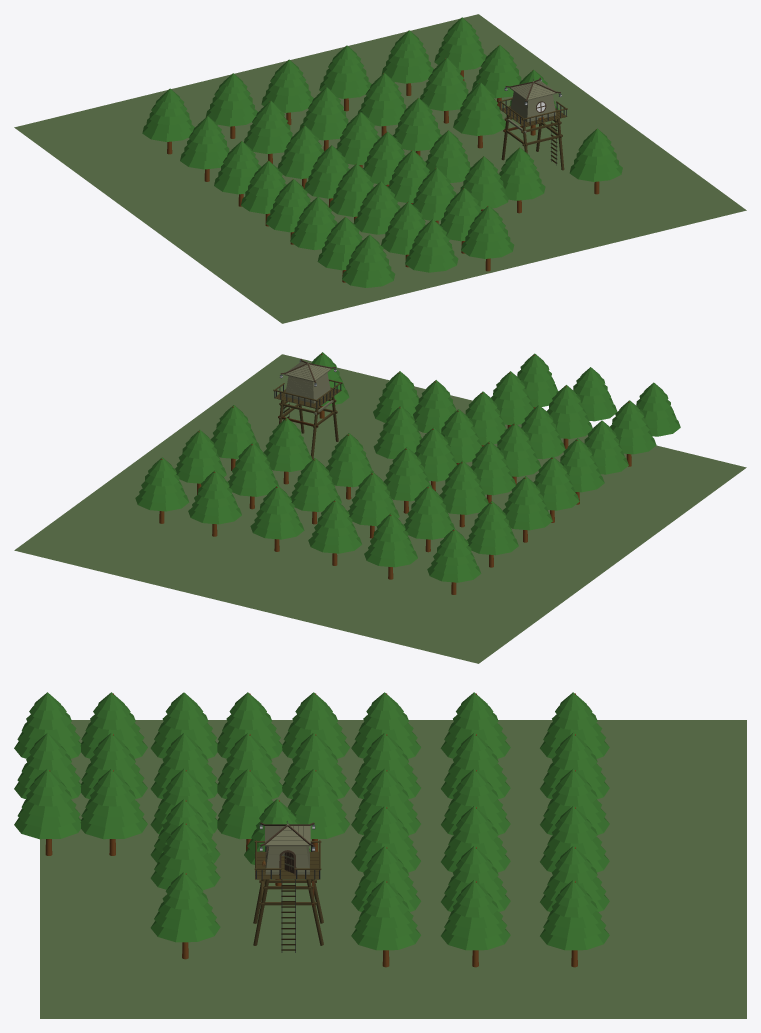
File: watchtower.fbx
3 renders of one model, top to bottom at view 1: azimuth 30°, elevation 25°; view 2: azimuth 150°, elevation 25°; view 3: azimuth 270°, elevation 25°, orthographic. The views are drawn at different scales.
Visible parts, largest first — view 1: grass, TREE.016, TREE.061, TREE.064, TREE.018, TREE.057, TREE.051, TREE.040, TREE.023, TREE.049, TREE.029, TREE.038 (+26 smaller); view 2: grass, TREE.051, TREE.015, TREE.023, TREE.013, TREE.040, TREE.029, TREE.049, TREE.038, TREE.021, TREE.047, TREE.036 (+27 smaller); view 3: grass, TREE.016, TREE.005, TREE.009, TREE.013, TREE.057, TREE.059, TREE.001, TREE.031, TREE.033, TREE.047, TREE.049 (+28 smaller).
Boxes of the visible parts, x1,y1,x2,y2 form: grass: (14,14,746,323); TREE.016: (569,128,622,181); TREE.061: (405,219,458,272); TREE.064: (342,234,395,287); TREE.018: (453,83,505,135); TREE.057: (461,205,514,258); TREE.051: (142,88,194,141); TREE.040: (205,73,257,126); TREE.023: (381,30,433,83); TREE.049: (180,116,229,169); TREE.029: (319,45,371,98); TREE.038: (244,101,292,153); grass: (14,354,746,663); TREE.051: (427,528,481,582); TREE.015: (308,499,361,553); TREE.023: (188,470,241,524); TREE.013: (135,457,189,511); TREE.040: (364,513,417,567); TREE.029: (250,485,304,539); TREE.049: (467,501,518,555); TREE.038: (404,485,454,539); TREE.021: (228,442,279,496); TREE.047: (502,476,552,530); TREE.036: (439,460,488,514); grass: (40,720,746,1018); TREE.016: (150,872,220,942); TREE.005: (351,880,420,950); TREE.009: (441,880,510,950); TREE.013: (540,880,609,950); TREE.057: (14,769,81,839); TREE.059: (80,769,147,839); TREE.001: (150,822,220,890); TREE.031: (287,769,349,838); TREE.033: (217,769,273,839); TREE.047: (351,692,420,758); TREE.049: (440,692,510,758).
Size of the model in its own units: 6484 by 1231 by 6722.
